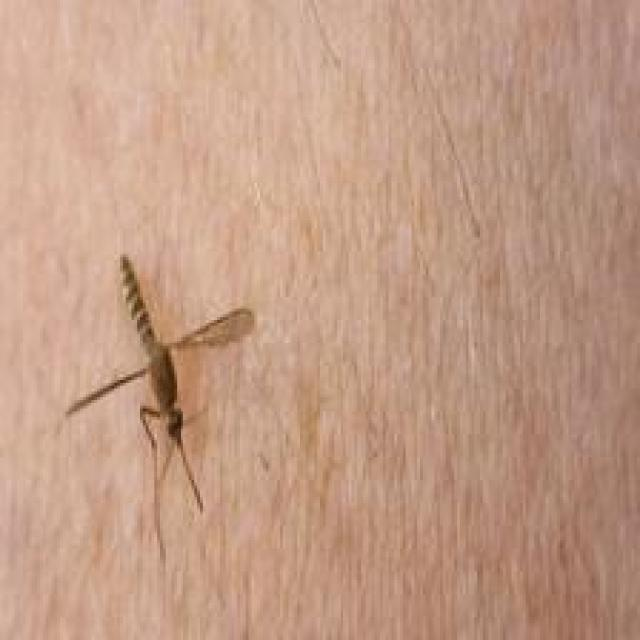Culex: (64, 253, 256, 564)
